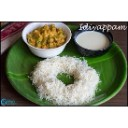idiyappam: (28, 55, 100, 102)
